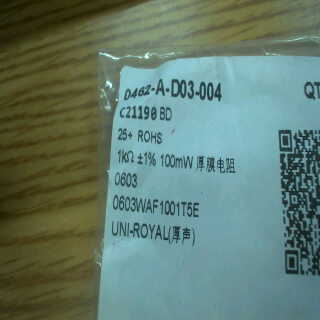1kR: (111, 146, 135, 169)
